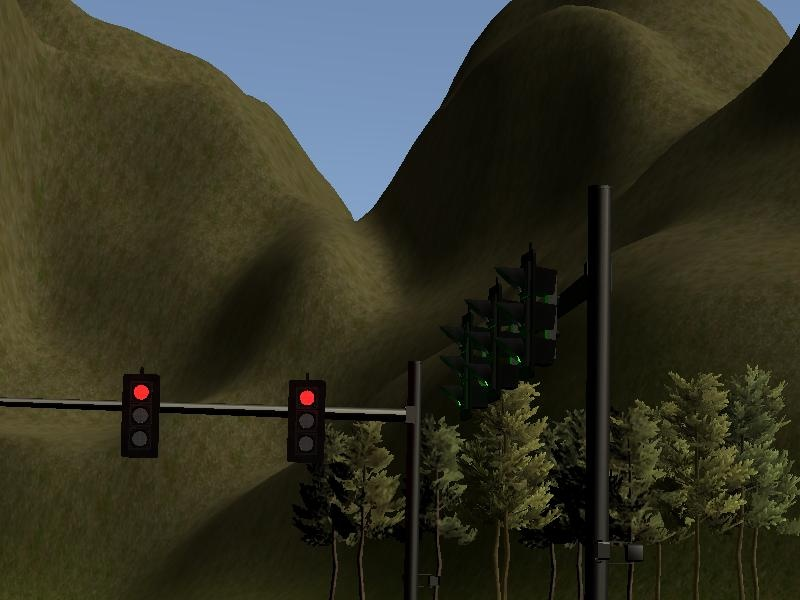RED: (285, 379, 324, 461), (120, 376, 159, 458)
